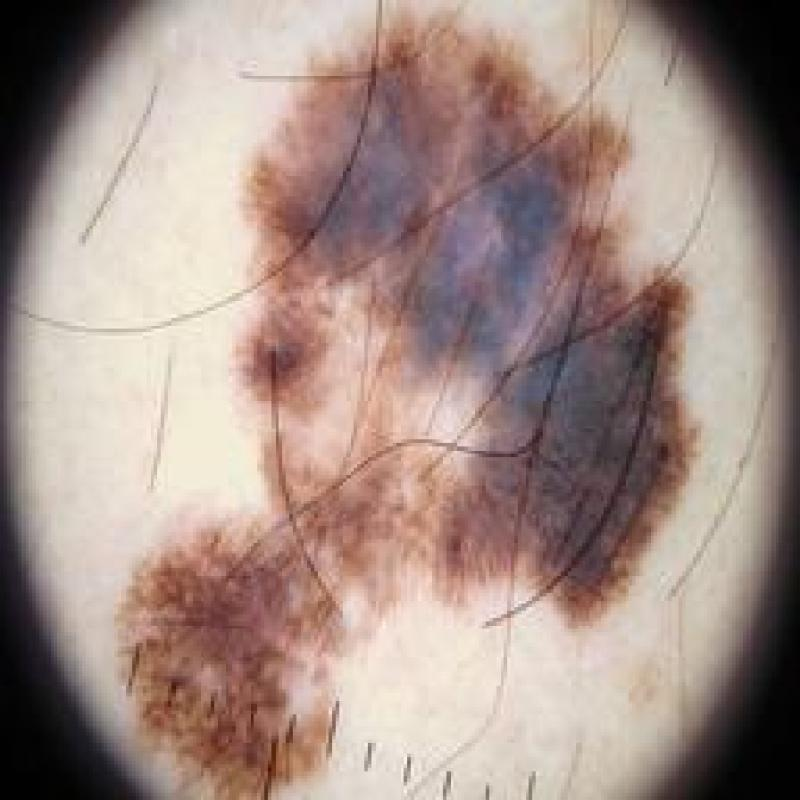malignant: (39, 8, 777, 800)
